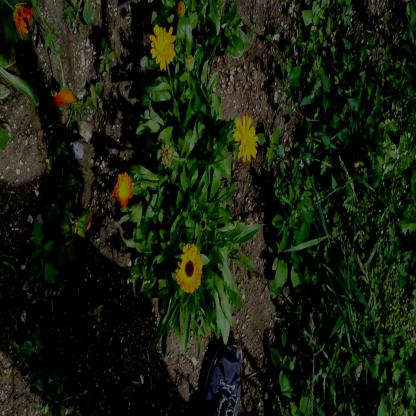marigold: (176, 245, 202, 296), (149, 22, 176, 70), (234, 112, 258, 161), (111, 170, 134, 207)
